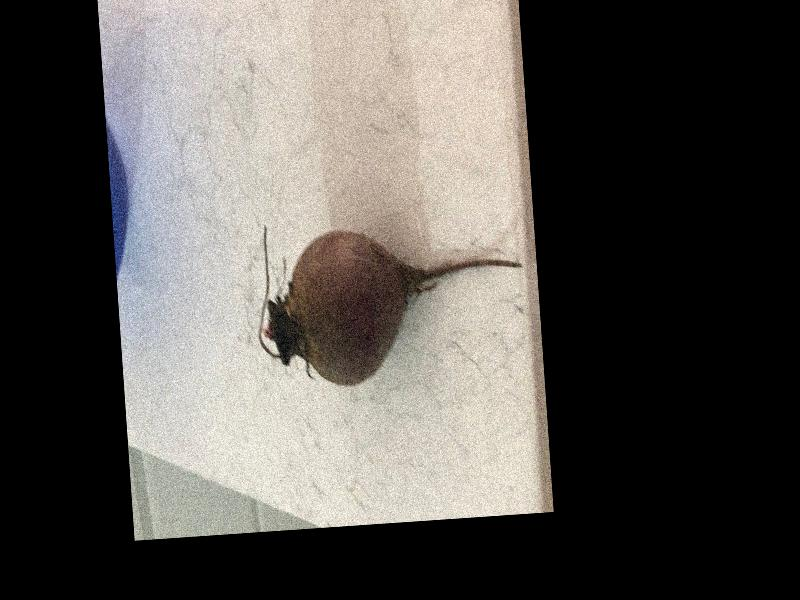Beet: (250, 207, 529, 390)
